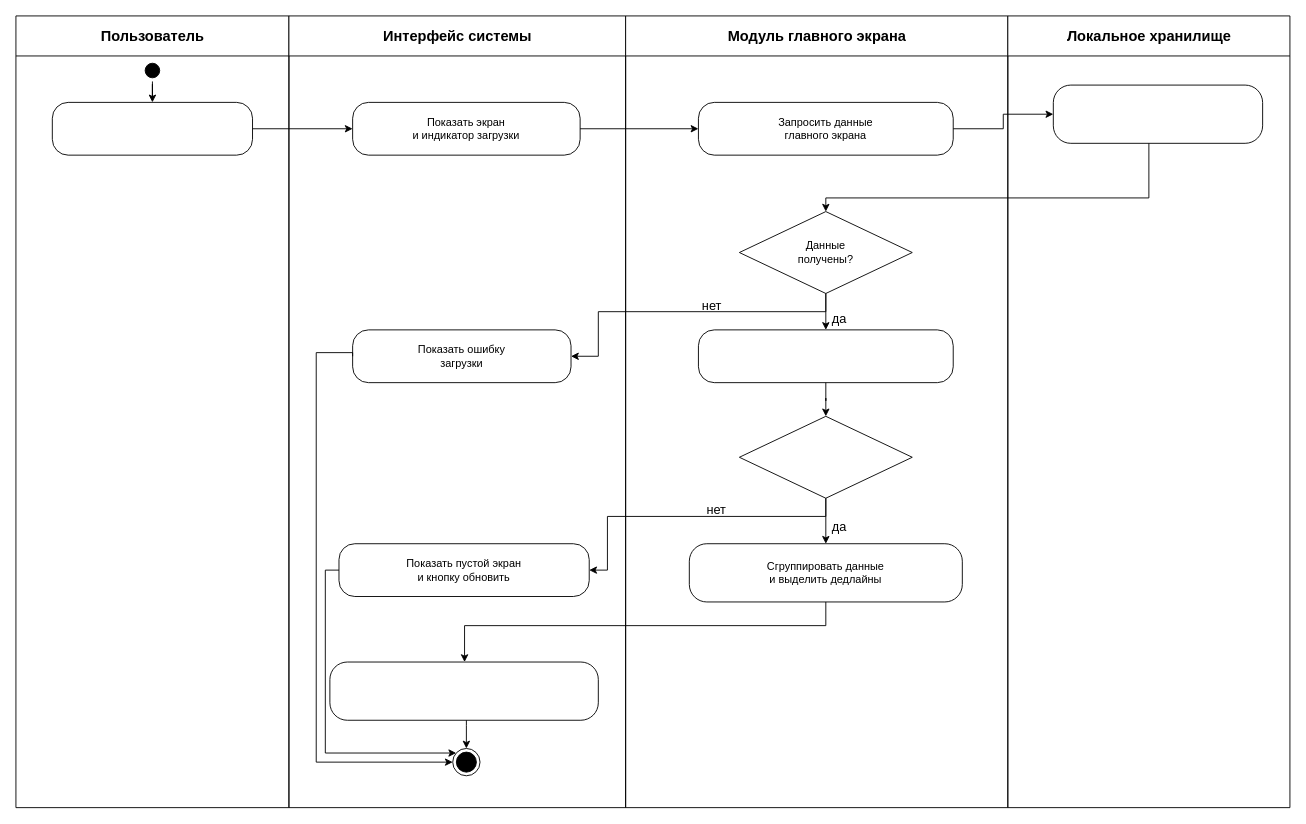
The diagram is 1306 pixels wide and 824 high, and some of its shapes have lost their labels. The centre of each missing label's shape, as x and y in pixels:
"Есть данные?" belongs at (x=825, y=456).
"Открыть главный экран" belongs at (x=152, y=128).
"Показать расписание, дедлайны и оценки" belongs at (x=463, y=690).
"Получить расписание, дедлайны, оценки" belongs at (x=1157, y=113).
"Проверить, есть ли записи" belongs at (x=825, y=356).
